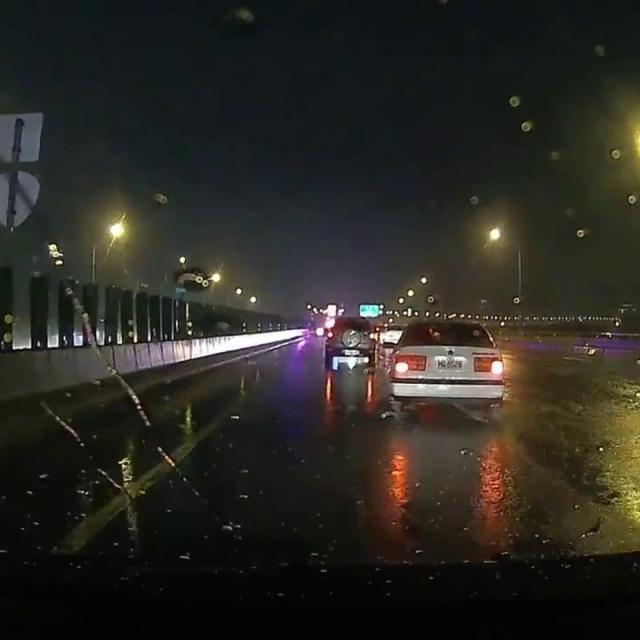Car: (384, 320, 507, 418), (320, 312, 373, 370), (375, 324, 407, 347)
